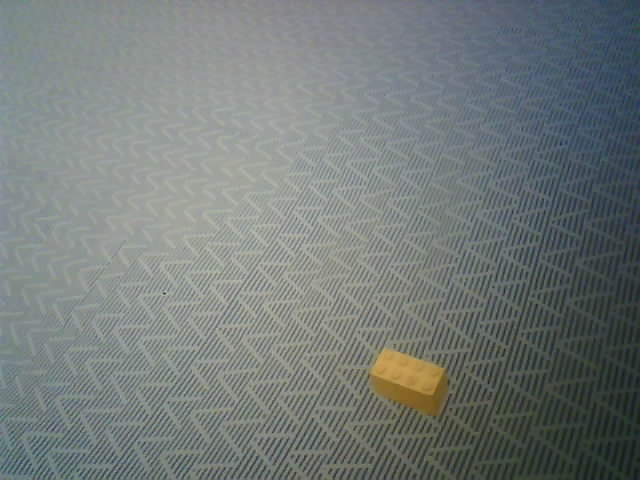lego: (368, 347, 449, 417)
